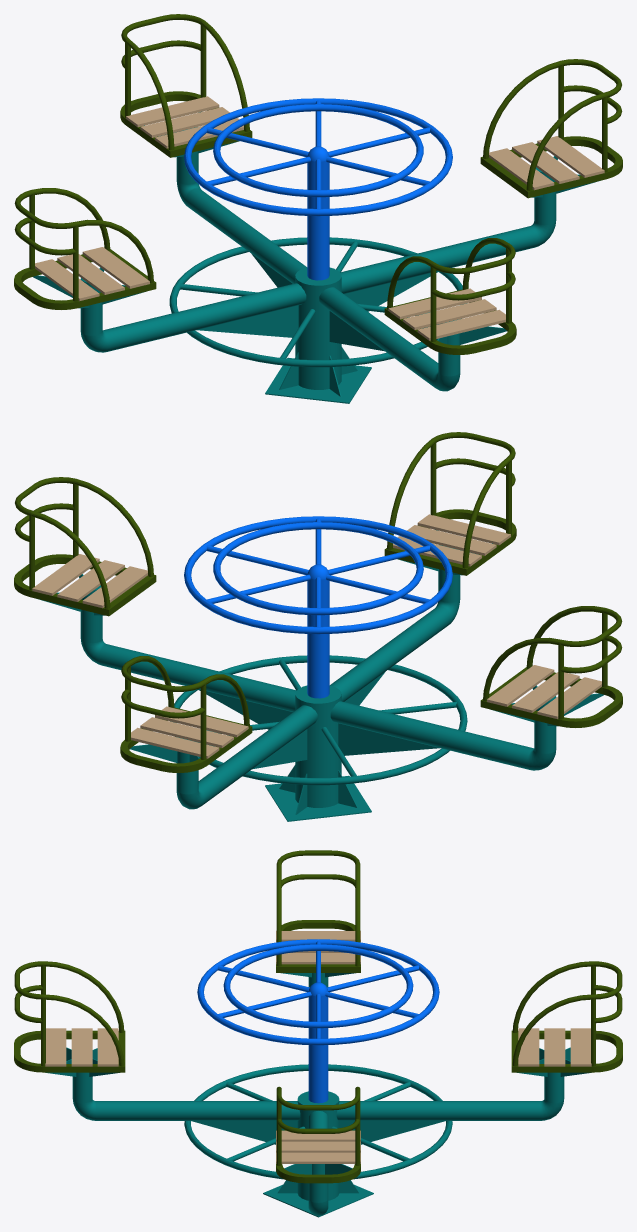
3 views of the same model, one above another, from view 1: azimuth 30°, elevation 25°; view 2: azimuth 150°, elevation 25°; view 3: azimuth 270°, elevation 25° (orthographic). The views are drawn at different scales.
Visible parts, largest first — view 1: 10Karusel01Base_02, 10Karusel01Seat_08, 10Karusel01RoofBase_03, 10Karusel01Wood_03, 10Karusel01Wood_02, 10Karusel01Wood_01, 10Karusel01Wood_04; view 2: 10Karusel01Base_02, 10Karusel01Seat_08, 10Karusel01RoofBase_03, 10Karusel01Wood_03, 10Karusel01Wood_04, 10Karusel01Wood_01, 10Karusel01Wood_02; view 3: 10Karusel01Base_02, 10Karusel01Seat_08, 10Karusel01RoofBase_03, 10Karusel01Wood_04, 10Karusel01Wood_02, 10Karusel01Wood_01, 10Karusel01Wood_03.
Part boxes in pixels (x1=…): 10Karusel01Base_02: x1=33, y1=111, x2=600, y2=403; 10Karusel01Seat_08: x1=14, y1=14, x2=622, y2=354; 10Karusel01RoofBase_03: x1=184, y1=98, x2=452, y2=280; 10Karusel01Wood_03: x1=35, y1=247, x2=149, y2=301; 10Karusel01Wood_02: x1=388, y1=288, x2=505, y2=340; 10Karusel01Wood_01: x1=489, y1=136, x2=604, y2=190; 10Karusel01Wood_04: x1=126, y1=96, x2=243, y2=148; 10Karusel01Base_02: x1=36, y1=529, x2=603, y2=821; 10Karusel01Seat_08: x1=14, y1=432, x2=622, y2=772; 10Karusel01RoofBase_03: x1=184, y1=516, x2=452, y2=698; 10Karusel01Wood_03: x1=487, y1=665, x2=601, y2=719; 10Karusel01Wood_04: x1=131, y1=706, x2=248, y2=758; 10Karusel01Wood_01: x1=32, y1=554, x2=147, y2=608; 10Karusel01Wood_02: x1=393, y1=514, x2=510, y2=566; 10Karusel01Base_02: x1=45, y1=973, x2=591, y2=1217; 10Karusel01Seat_08: x1=14, y1=850, x2=622, y2=1183; 10Karusel01RoofBase_03: x1=197, y1=939, x2=439, y2=1103; 10Karusel01Wood_04: x1=518, y1=1028, x2=591, y2=1066; 10Karusel01Wood_02: x1=45, y1=1028, x2=118, y2=1066; 10Karusel01Wood_01: x1=276, y1=1130, x2=360, y2=1163; 10Karusel01Wood_03: x1=276, y1=931, x2=360, y2=964.
Size of the model in its own units: 100 by 39.14 by 100.
